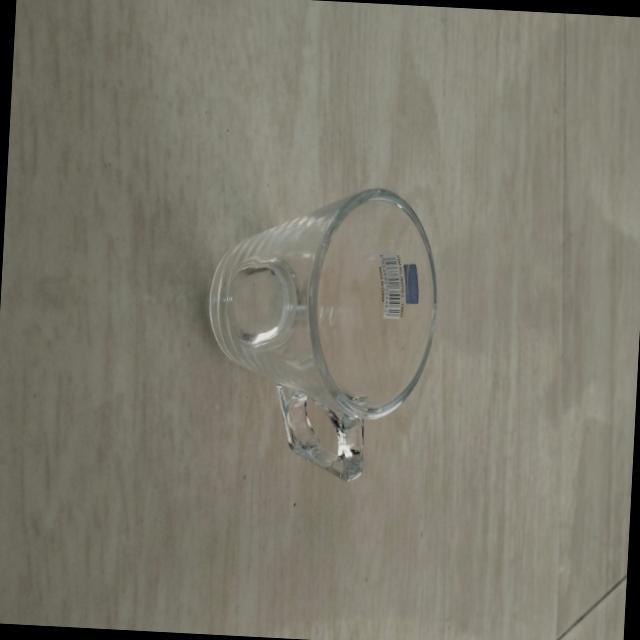glass-VX4N: (192, 175, 448, 484)
